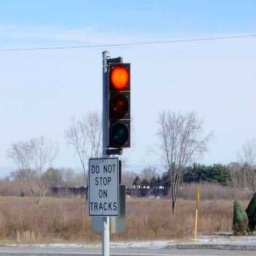traffic light: (105, 62, 131, 148)
